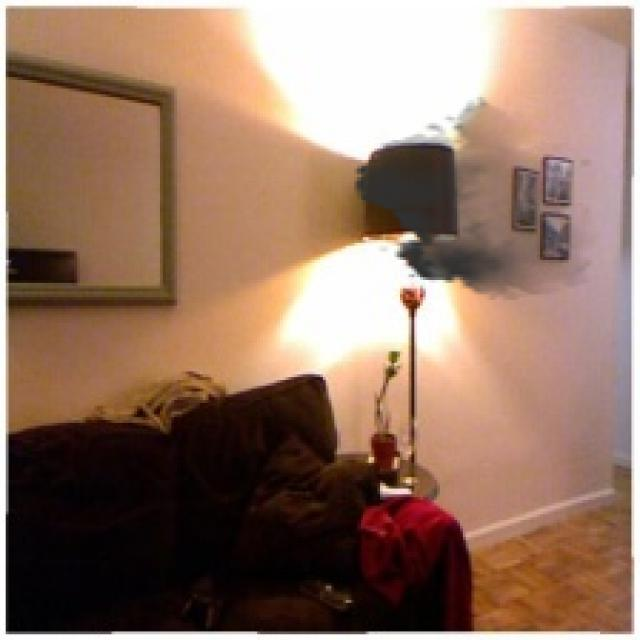smoke: (343, 94, 606, 300)
